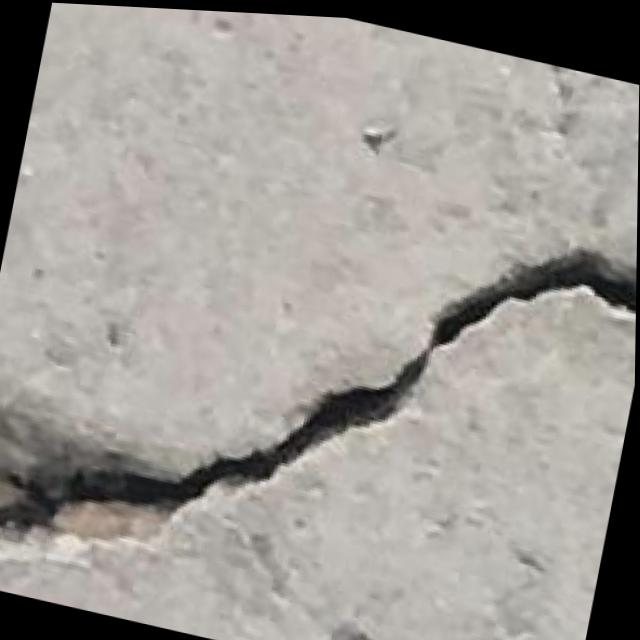Crack: (0, 107, 639, 640)
